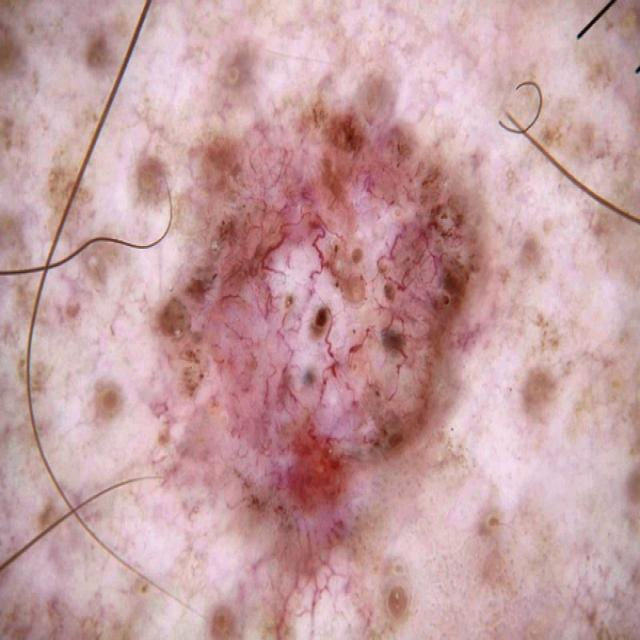Basal-Cell-Carcinoma-BCC-: (34, 5, 638, 635)
